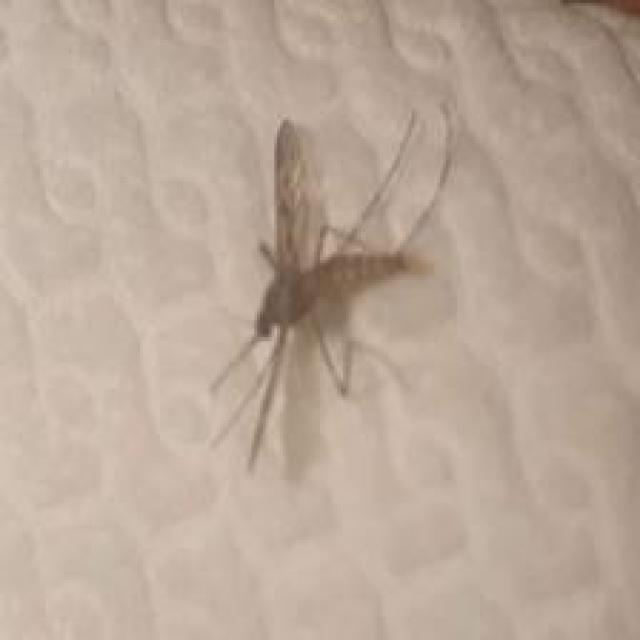Culex: (204, 98, 459, 473)
